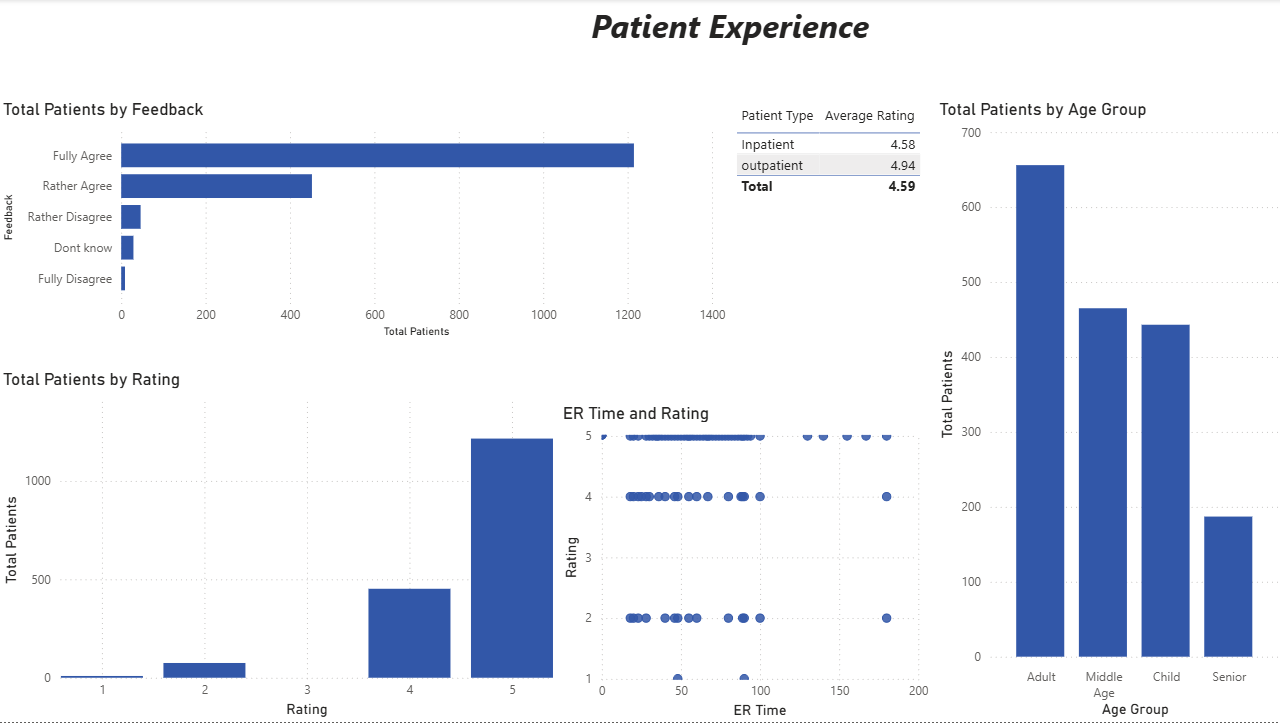

The dashboard page shown, as its layout file describes it:
{"tool":"powerbi","page":{"name":"Patient Experience","canvas":[1280,720],"ordinal":3},"visuals":[{"type":"clusteredBarChart","fields":{"Category":["Detail data dataset.Feedback"],"Y":["Bed_Detail.Total Patients"]},"box":[0,100,728.8,242.5],"z":0},{"type":"columnChart","fields":{"Category":["Detail data dataset.Rating"],"Y":["Bed_Detail.Total Patients"]},"box":[0,368.8,557.5,351.2],"z":1000},{"type":"columnChart","fields":{"Y":["Bed_Detail.Total Patients"],"Category":["Detail data dataset.Age Group"]},"box":[931.2,100,348.8,620],"z":2000},{"type":"tableEx","fields":{"Values":["Detail data dataset.Patient Type","Bed_Detail.Average Rating"]},"box":[728.8,100,202.5,178.8],"z":3000},{"type":"scatterChart","fields":{"Y":["Detail data dataset.Rating"],"X":["Detail data dataset.ER Time"]},"box":[557.5,401.2,373.8,318.8],"z":4000},{"type":"textbox","box":[511.2,0,435,100],"z":5000}]}

Visuals, with their boxes in screenshot pixels (x1, y1, x2, y2), scaled from the page's 1280x720 canvas onto the 1280x723 screenshot:
clusteredBarChart - Detail data dataset.Feedback x Bed_Detail.Total Patients: select_region(0, 100, 729, 344)
columnChart - Detail data dataset.Rating x Bed_Detail.Total Patients: select_region(0, 370, 558, 722)
columnChart - Bed_Detail.Total Patients x Detail data dataset.Age Group: select_region(931, 100, 1279, 722)
tableEx - Detail data dataset.Patient Type x Bed_Detail.Average Rating: select_region(729, 100, 931, 280)
scatterChart - Detail data dataset.Rating x Detail data dataset.ER Time: select_region(558, 403, 931, 722)
textbox: select_region(511, 0, 946, 100)
